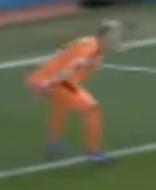goalkeeper: (18, 7, 127, 171)
